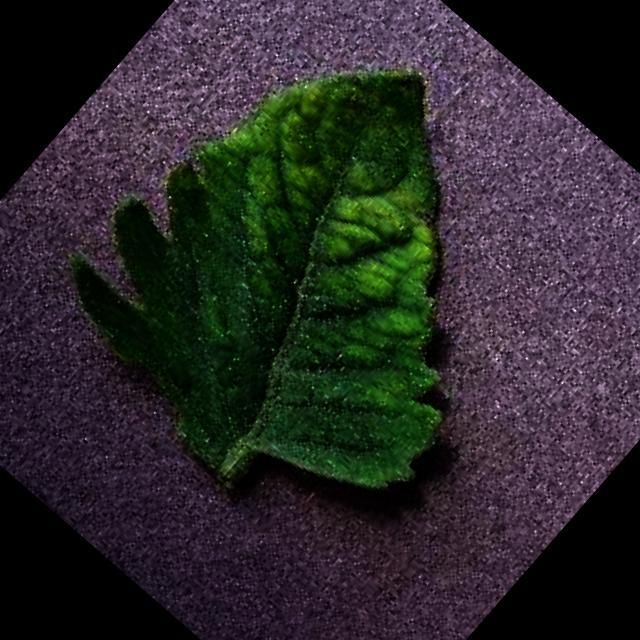Tomato mosaic virus leaf: (27, 0, 627, 577)
